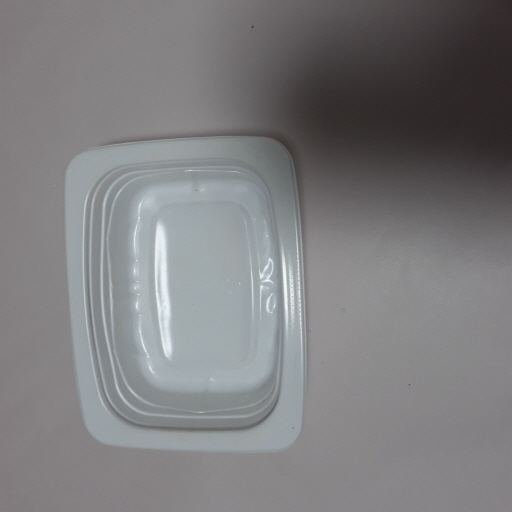Plastic_4: (61, 133, 308, 457)
